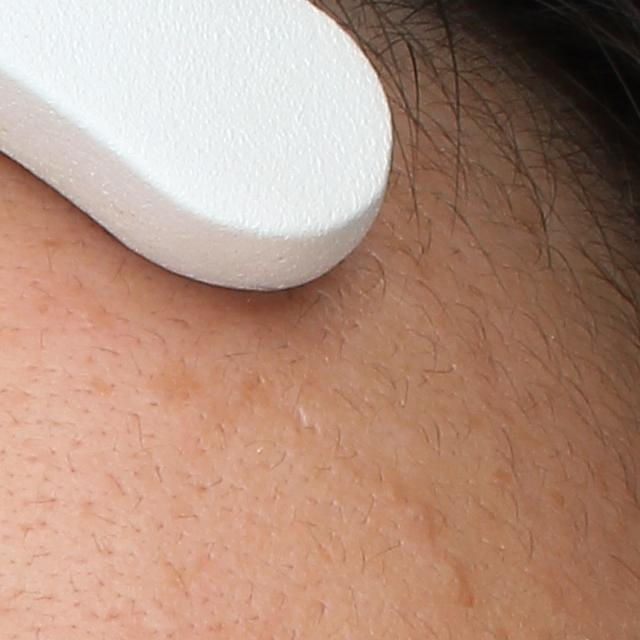comedo: (435, 558, 465, 592), (406, 502, 434, 534)
